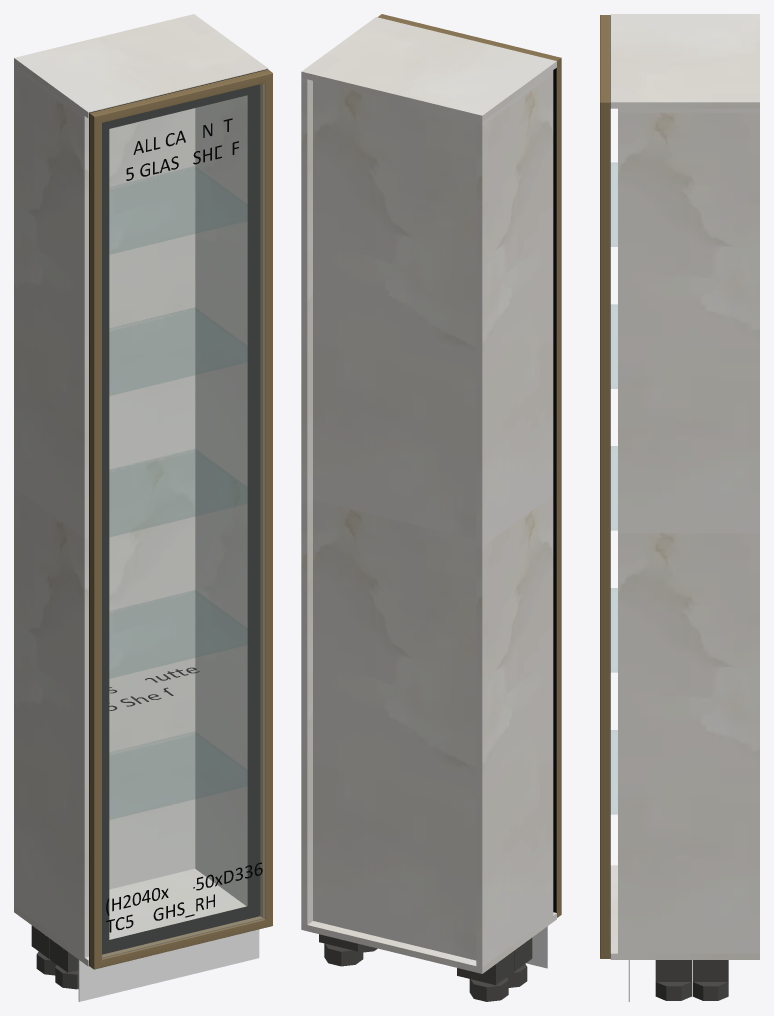
File: TC5GS1GHS_RH (H2040xW450xD336).glb
3 views of the same model, side by side, from view 1: azimuth 30°, elevation 25°; view 2: azimuth 150°, elevation 25°; view 3: azimuth 270°, elevation 25° (orthographic).
Size of what is drawn, in the model's own units: 0.45 by 2.14 by 0.366.
8 materials, 1 textured.
